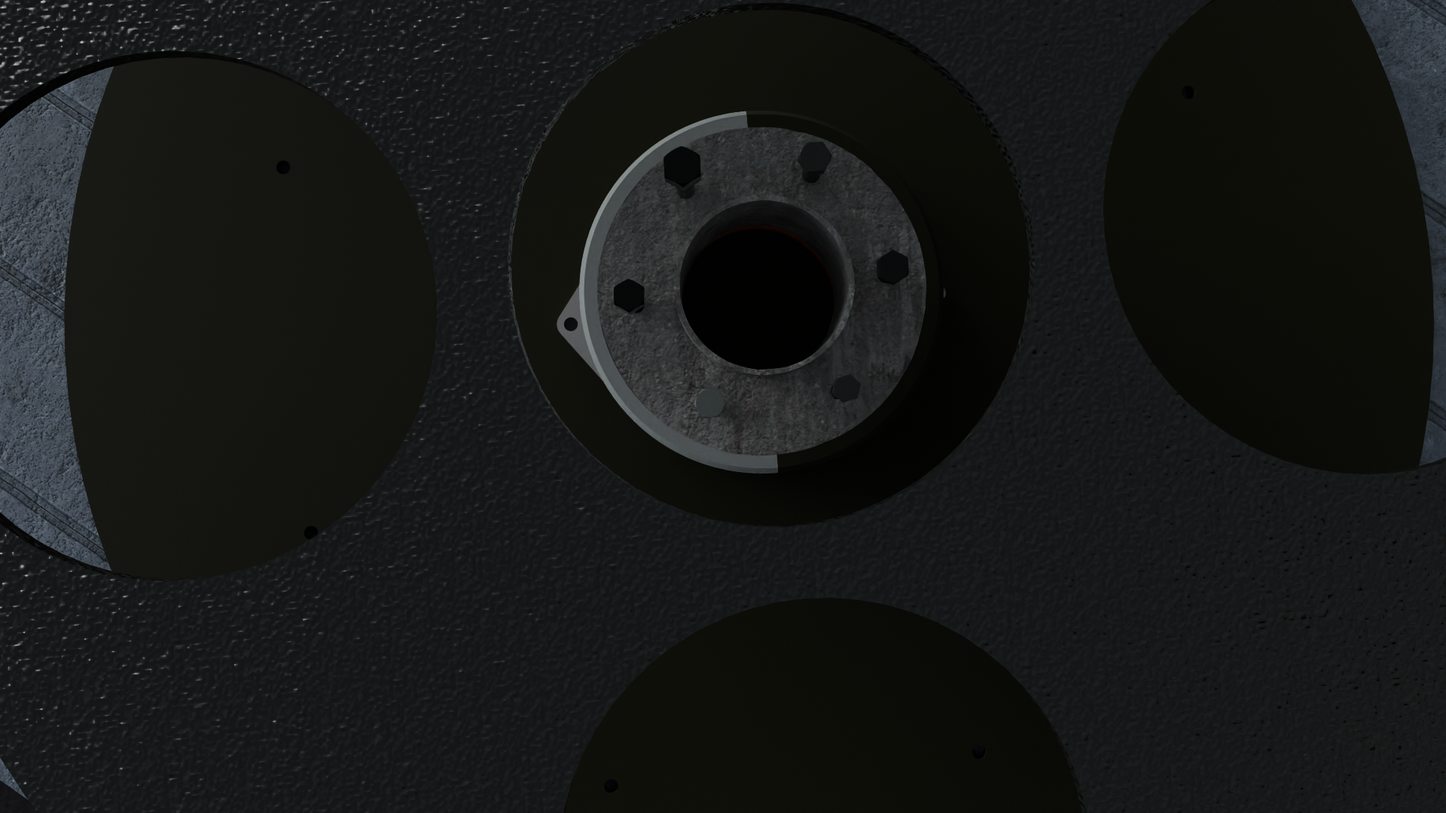bolt: (664, 146, 701, 187), (878, 250, 909, 283), (798, 142, 832, 172), (614, 279, 644, 313), (694, 388, 726, 418), (833, 374, 861, 402)
